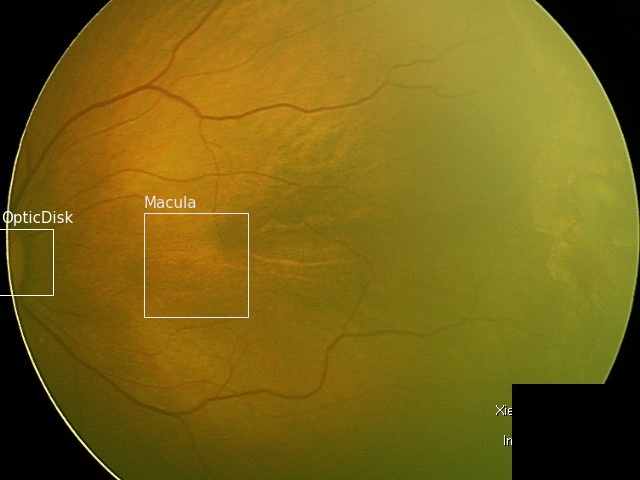Macula: (143, 212, 247, 316)
